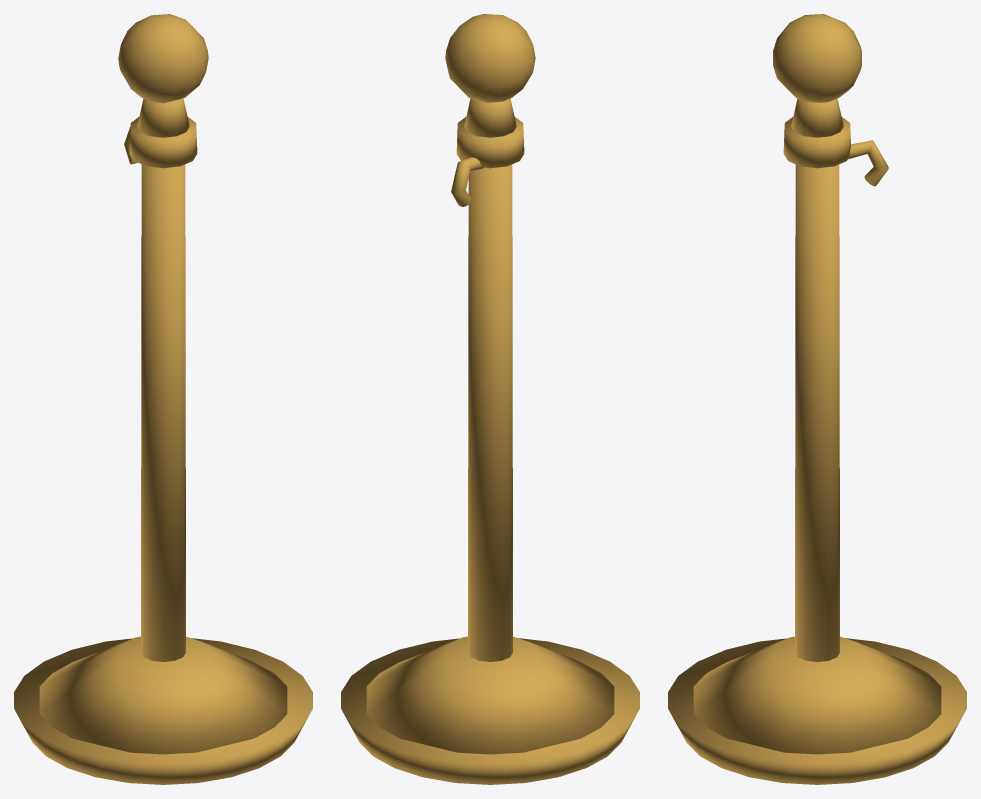
Rendered from street_queue_post.glb.
3 renders of one model, left to right at view 1: azimuth 30°, elevation 25°; view 2: azimuth 150°, elevation 25°; view 3: azimuth 270°, elevation 25°, orthographic.
Visible parts, largest first — view 1: Ball; view 2: Ball, Hook; view 3: Ball, Hook.
Boxes of the visible parts, x1,y1,x2,y2 form: Ball: (14,14,312,784); Ball: (341,14,639,784); Hook: (451,157,483,206); Ball: (668,14,966,784); Hook: (848,140,888,186).
Bounding box in the file's own units: 0.2347 × 0.6147 × 0.2347.
